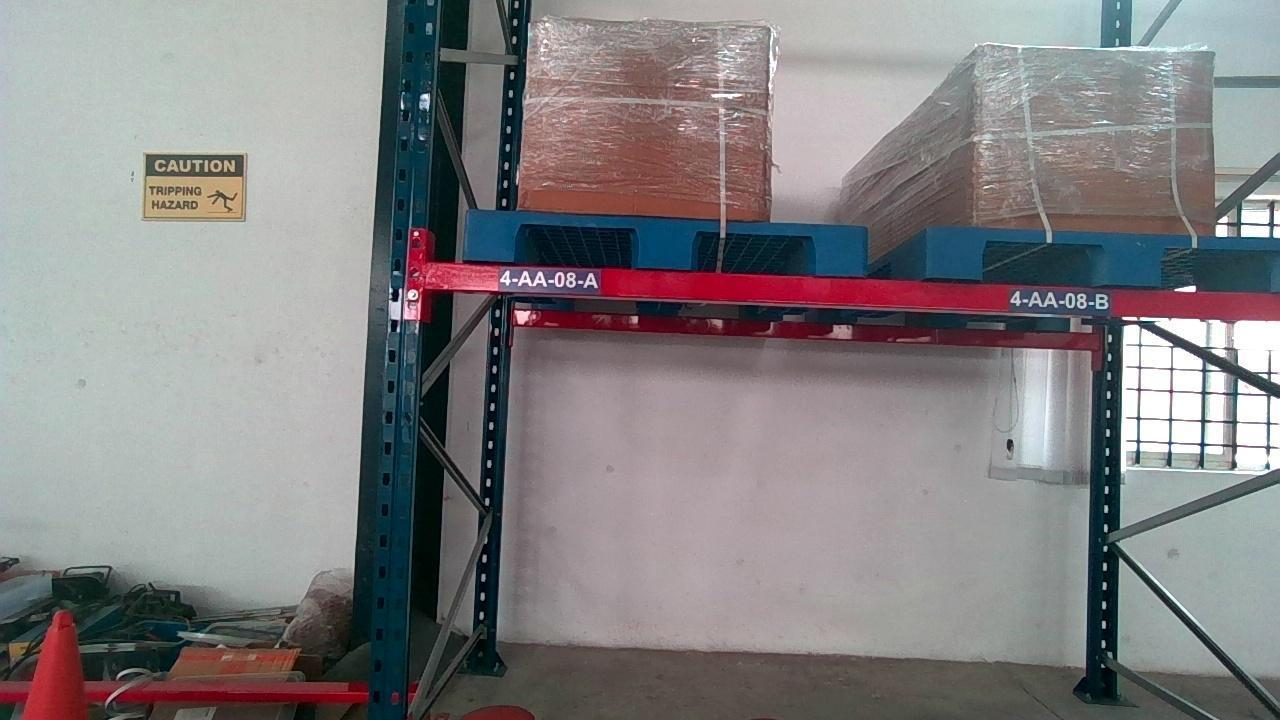h_rack: (435, 262, 1280, 315)
small_pallet: (464, 213, 866, 268), (933, 229, 1277, 285)
